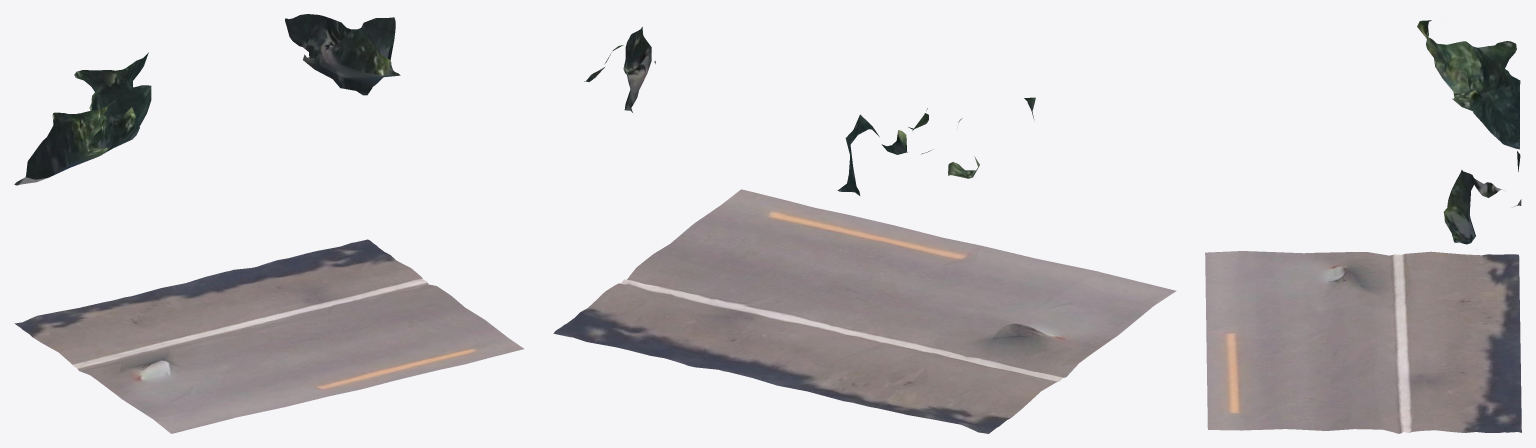
Rendered from Tile_+006_+007_L22_0002340.glb.
3 views of the same model, side by side, from view 1: azimuth 30°, elevation 25°; view 2: azimuth 150°, elevation 25°; view 3: azimuth 270°, elevation 25° (orthographic). The views are drawn at different scales.
Parts seen in each view (by area): view 1: rtc; view 2: rtc; view 3: rtc.
Boxes of the visible parts, bbox=[...] form: rtc: bbox=[14, 14, 523, 433]; rtc: bbox=[553, 27, 1176, 433]; rtc: bbox=[1205, 20, 1521, 433].
Size of the model in its own units: 9.02 by 5.88 by 6.87.
1 material, 1 textured.
